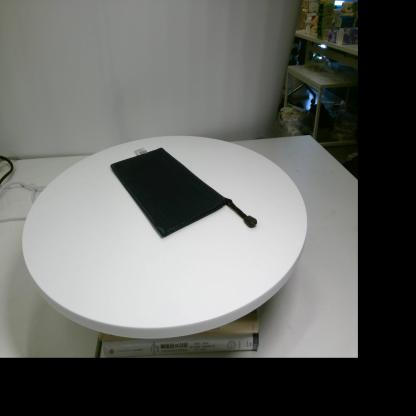Stationery: (110, 147, 257, 237)
